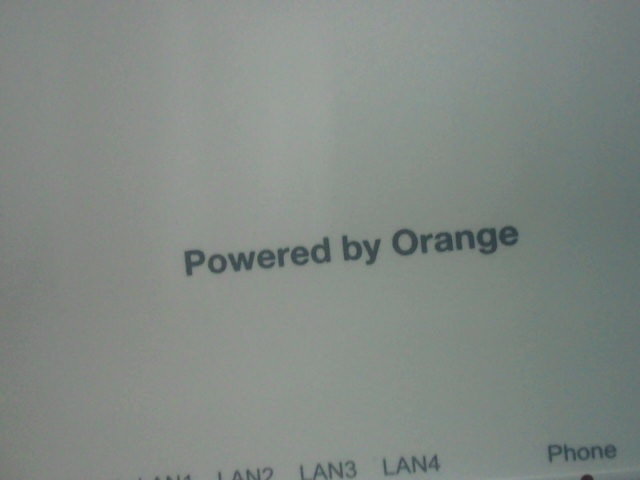AS_PowerByOrange: (161, 204, 535, 277)
